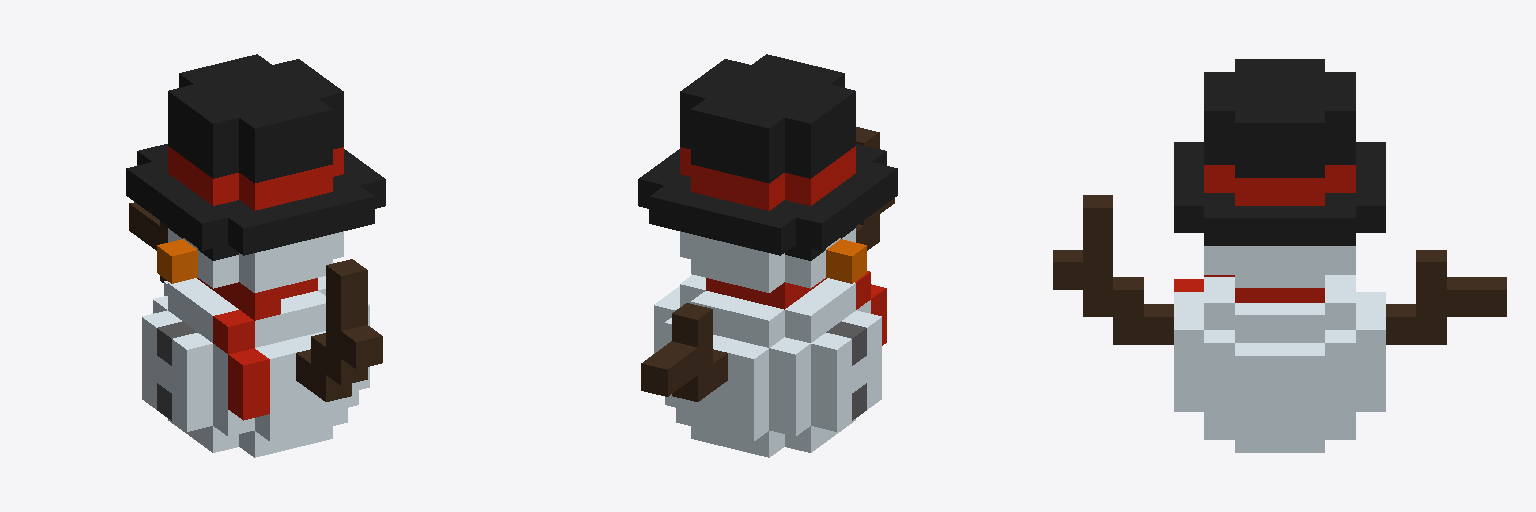
3 views of the same model, side by side, from view 1: azimuth 30°, elevation 25°; view 2: azimuth 150°, elevation 25°; view 3: azimuth 270°, elevation 25° (orthographic).
Visible parts, largest first — view 1: object 1; view 2: object 1; view 3: object 1.
Part boxes in pixels (x1,y1,x2,y2): object 1: (126,54,385,457); object 1: (638,54,897,457); object 1: (1053,59,1506,452).
Bounding box in the file's own units: 0.7 × 1.2 × 1.5.
Materials: 1 (1 with a texture image).